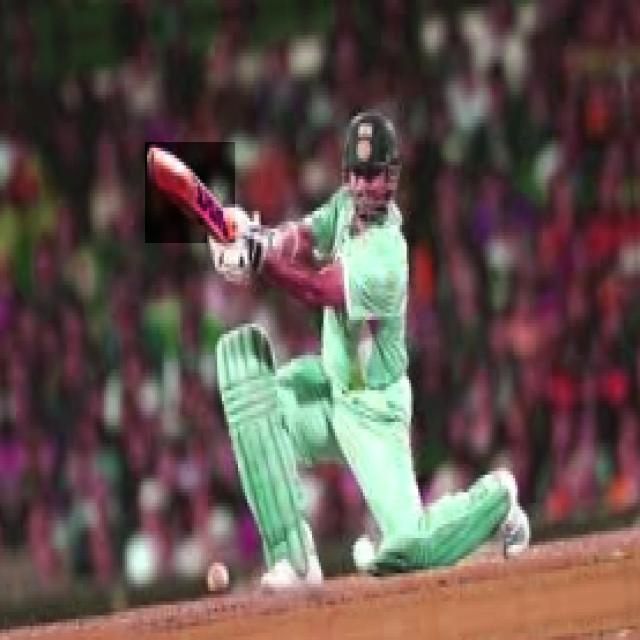bat: (146, 143, 240, 239)
toe: (126, 139, 178, 186)
